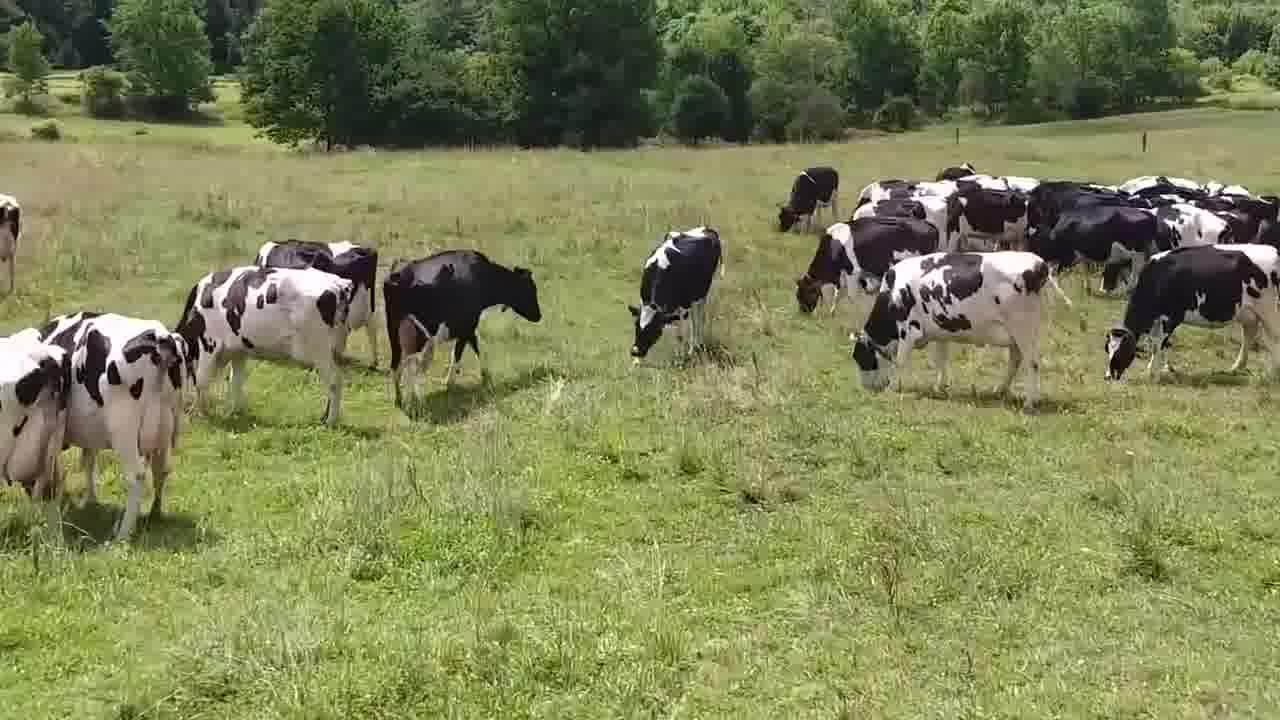cow: (848, 246, 1069, 415), (44, 306, 182, 542), (1091, 235, 1280, 393), (379, 247, 548, 420), (182, 270, 356, 431), (251, 237, 386, 371), (0, 324, 75, 552), (792, 212, 941, 321), (624, 224, 731, 363), (1026, 198, 1169, 283), (773, 161, 842, 229)
